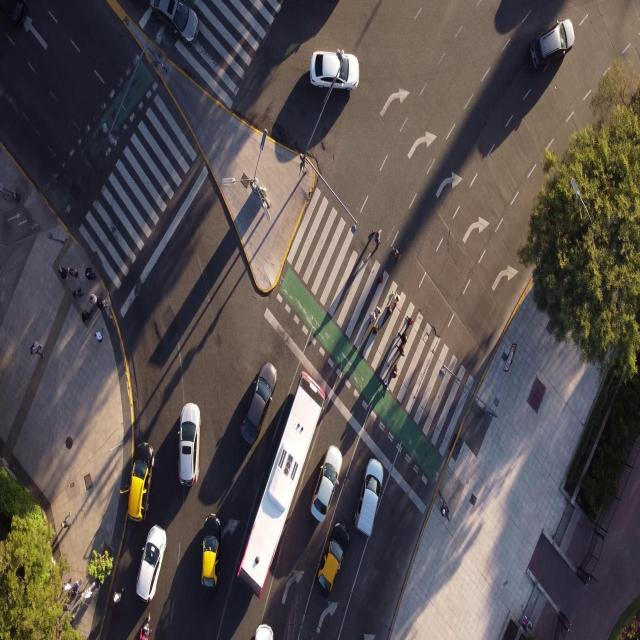Bus: (239, 366, 326, 594)
Car: (239, 356, 279, 446), (120, 433, 156, 530), (135, 510, 172, 599), (309, 444, 344, 524), (355, 456, 386, 539), (530, 19, 575, 76), (310, 46, 364, 92), (179, 405, 206, 484), (200, 512, 225, 594), (318, 534, 342, 608)
